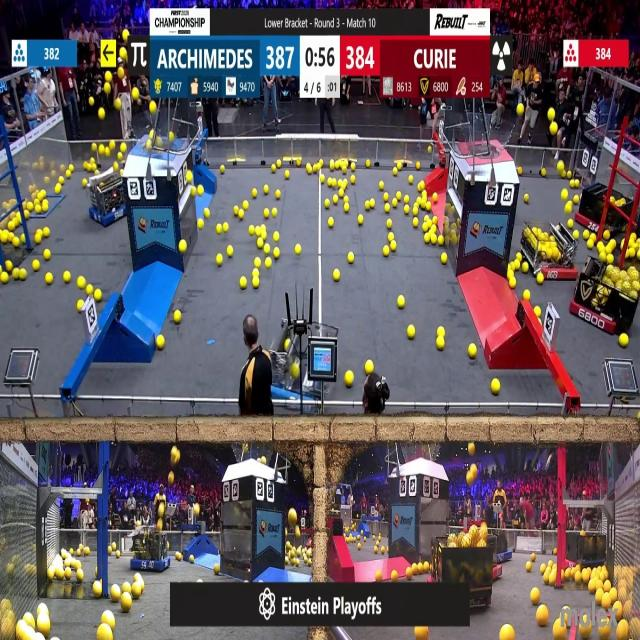ball_airborne: (171, 448, 180, 465), (288, 510, 296, 524), (148, 102, 156, 114), (132, 90, 140, 102), (466, 470, 474, 482), (546, 108, 554, 120), (467, 444, 475, 456), (159, 503, 166, 516), (118, 47, 125, 59), (104, 84, 111, 96), (551, 124, 558, 136), (121, 30, 128, 42), (116, 68, 124, 78), (169, 471, 175, 484), (105, 71, 112, 82), (99, 108, 106, 119), (114, 99, 121, 110), (518, 104, 524, 116), (155, 521, 162, 531), (90, 97, 96, 107), (192, 504, 198, 514), (100, 144, 106, 154), (146, 140, 152, 150), (148, 131, 155, 139), (115, 151, 122, 159), (169, 133, 175, 142), (93, 143, 99, 152), (120, 144, 126, 152), (109, 141, 115, 149), (105, 148, 110, 156), (295, 528, 299, 537), (114, 163, 118, 171)
ball_ground: (536, 608, 547, 628), (37, 620, 50, 636), (618, 622, 629, 640), (102, 613, 114, 629), (554, 624, 566, 640), (500, 626, 513, 640), (97, 627, 111, 640), (120, 595, 130, 612), (110, 587, 121, 602), (345, 372, 354, 388), (94, 583, 103, 599), (133, 584, 143, 598), (531, 589, 539, 605), (491, 380, 500, 394), (364, 360, 372, 374), (468, 345, 476, 359), (158, 337, 166, 351), (620, 335, 628, 349), (26, 616, 35, 628), (438, 338, 446, 351), (602, 596, 610, 609), (0, 232, 8, 245), (76, 277, 85, 288), (596, 591, 603, 605), (1, 272, 9, 284), (179, 241, 187, 253), (94, 290, 102, 302), (409, 325, 416, 338), (174, 311, 181, 324), (397, 295, 404, 308), (64, 272, 71, 284), (266, 256, 273, 268), (45, 274, 52, 286), (536, 274, 543, 286), (35, 234, 42, 246), (76, 569, 83, 581), (185, 171, 192, 183), (589, 582, 596, 594), (18, 270, 26, 280), (438, 326, 446, 336), (383, 246, 390, 257), (522, 264, 529, 275), (12, 238, 19, 249), (65, 568, 72, 579), (335, 270, 341, 282), (122, 584, 130, 593), (42, 201, 48, 213), (550, 572, 556, 584), (252, 278, 259, 288), (588, 240, 595, 250), (5, 263, 12, 273), (510, 279, 517, 289), (603, 232, 610, 242), (87, 285, 94, 295), (198, 186, 205, 196), (565, 204, 572, 214), (606, 254, 613, 264), (226, 246, 232, 257), (348, 252, 354, 263), (241, 278, 247, 289), (294, 244, 300, 255), (216, 253, 222, 264), (407, 567, 413, 578), (562, 188, 568, 199), (543, 573, 549, 584), (513, 264, 519, 275), (604, 582, 610, 593), (558, 162, 564, 173), (198, 219, 205, 228), (507, 270, 514, 279), (262, 233, 269, 242), (539, 564, 546, 573), (274, 248, 280, 258), (34, 262, 40, 272), (524, 289, 530, 299), (442, 253, 448, 263), (44, 250, 50, 260), (524, 192, 530, 202), (265, 245, 271, 255), (391, 570, 397, 580), (276, 188, 282, 198), (243, 201, 249, 211), (327, 218, 333, 228), (265, 208, 271, 218), (254, 257, 260, 267), (390, 242, 396, 252), (216, 223, 222, 233), (43, 228, 49, 238), (272, 208, 278, 218), (204, 208, 210, 218), (214, 564, 220, 574), (424, 234, 430, 244), (534, 308, 540, 318), (439, 236, 445, 246), (526, 562, 532, 572), (76, 302, 82, 312), (12, 270, 18, 280), (74, 560, 80, 570), (328, 162, 334, 172), (28, 202, 34, 212), (594, 240, 600, 250), (600, 252, 606, 262), (284, 341, 290, 351), (421, 191, 428, 199), (377, 569, 382, 580), (403, 206, 409, 215), (256, 239, 262, 248), (239, 210, 245, 219), (56, 184, 62, 193), (388, 233, 394, 242), (413, 218, 419, 227), (284, 171, 290, 180), (413, 206, 419, 215), (573, 232, 579, 241), (254, 224, 260, 233), (36, 205, 42, 214), (190, 187, 196, 196), (380, 180, 385, 190), (250, 224, 255, 234), (222, 222, 227, 232), (358, 215, 363, 225), (431, 236, 436, 246), (19, 235, 24, 245), (25, 210, 30, 220), (402, 194, 408, 202), (584, 232, 590, 240), (176, 553, 182, 561), (392, 200, 398, 208), (396, 192, 402, 200), (418, 182, 424, 190), (59, 176, 65, 184), (540, 170, 546, 178), (252, 270, 258, 278), (339, 180, 345, 188), (189, 556, 195, 564), (566, 171, 572, 179), (380, 545, 386, 553), (365, 162, 371, 170), (83, 549, 89, 557), (275, 233, 280, 242), (252, 188, 257, 197), (384, 192, 389, 201), (345, 204, 350, 213), (265, 184, 270, 193), (387, 219, 392, 228), (324, 200, 329, 209), (432, 192, 437, 201), (235, 207, 240, 216), (426, 202, 431, 211), (364, 201, 369, 210), (327, 178, 332, 187), (308, 166, 313, 175), (385, 204, 390, 213), (340, 187, 345, 196), (108, 545, 113, 554), (424, 215, 430, 222), (331, 195, 337, 202), (531, 554, 536, 562), (369, 200, 374, 208), (416, 163, 421, 171), (423, 223, 428, 231), (351, 176, 356, 184), (568, 219, 573, 227), (516, 166, 521, 174), (272, 166, 277, 174), (351, 164, 356, 172), (631, 234, 636, 242), (344, 194, 349, 202), (83, 163, 88, 171), (0, 264, 4, 274), (342, 166, 347, 174), (574, 180, 579, 188), (431, 225, 436, 232), (66, 172, 71, 179), (432, 217, 437, 224), (82, 179, 86, 187), (393, 168, 397, 176), (570, 180, 574, 188), (70, 163, 74, 171), (277, 161, 282, 167), (220, 167, 224, 174), (410, 176, 414, 183), (320, 176, 324, 183), (119, 553, 123, 560), (296, 161, 300, 168), (357, 546, 361, 553), (547, 561, 551, 568), (428, 146, 432, 152), (554, 546, 557, 554), (373, 548, 376, 554)
goal: (460, 118, 516, 158), (126, 117, 185, 153)
robot_blue: (268, 320, 336, 415), (88, 166, 127, 227), (130, 527, 171, 573)
robot_red: (431, 530, 497, 615), (571, 262, 637, 332), (518, 222, 558, 280), (577, 172, 609, 233)
